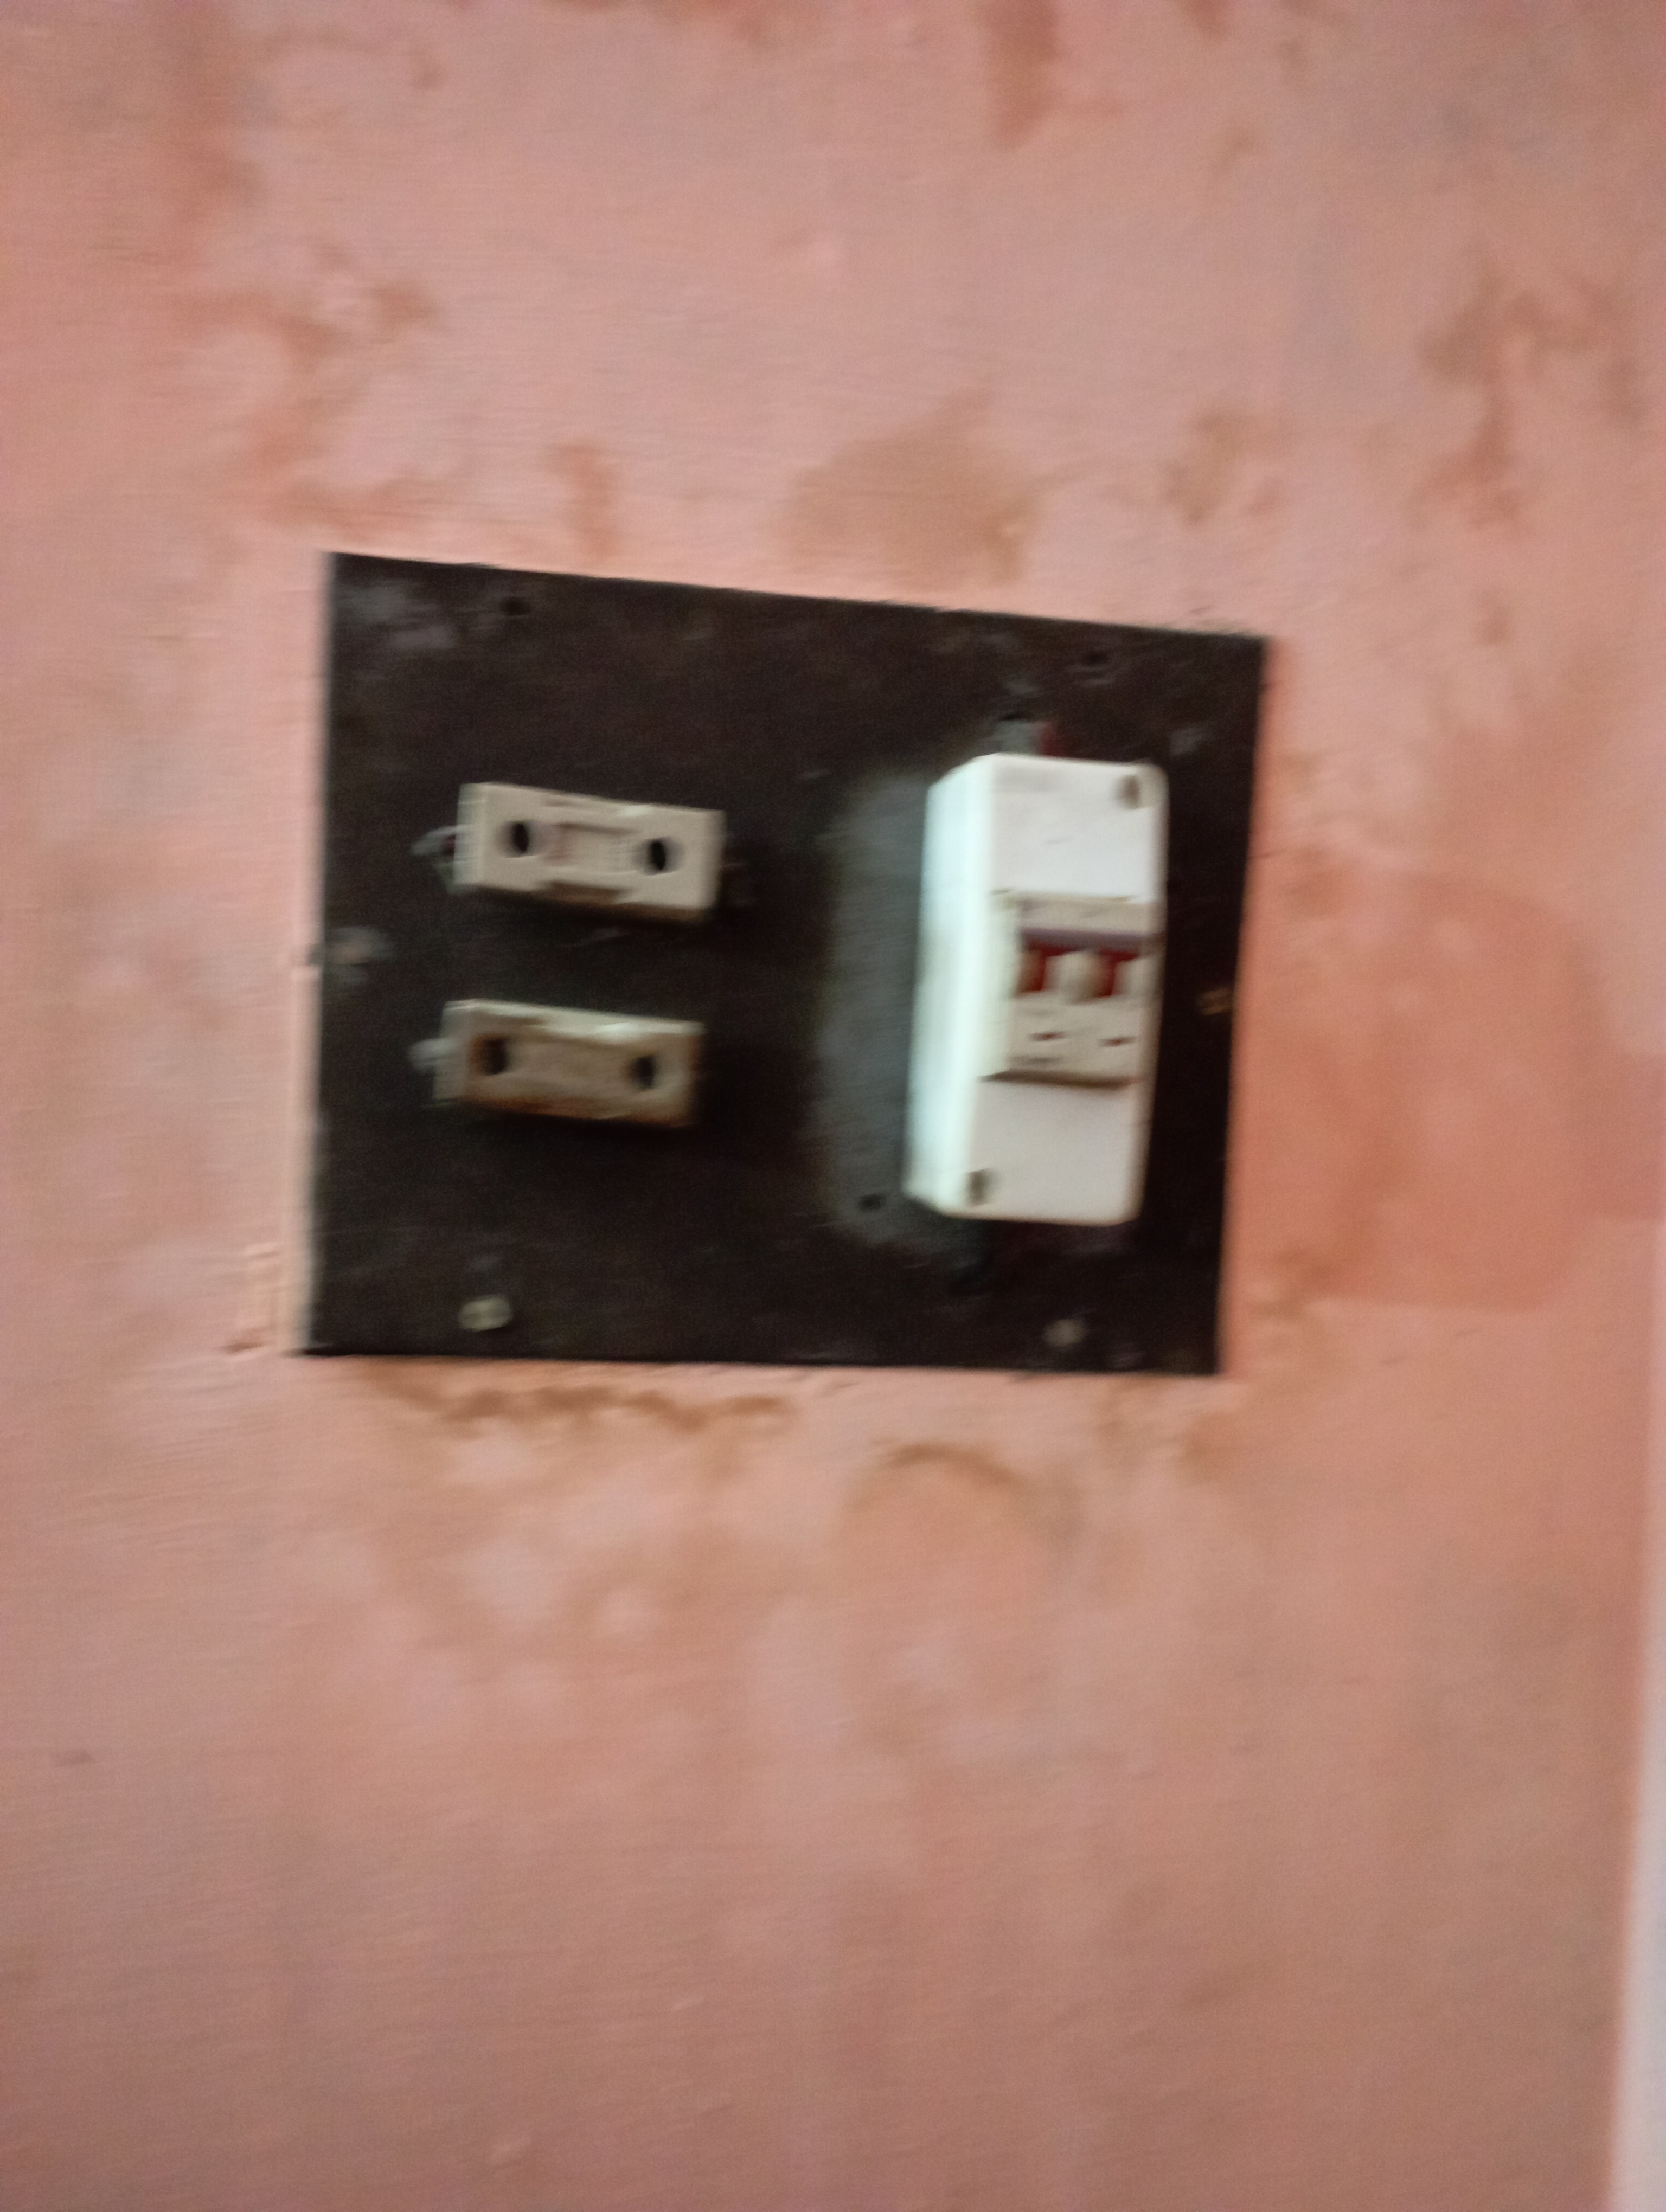ciruit_breaker: (894, 766, 1193, 1238)
fuse: (415, 775, 731, 930), (432, 977, 709, 1137)
